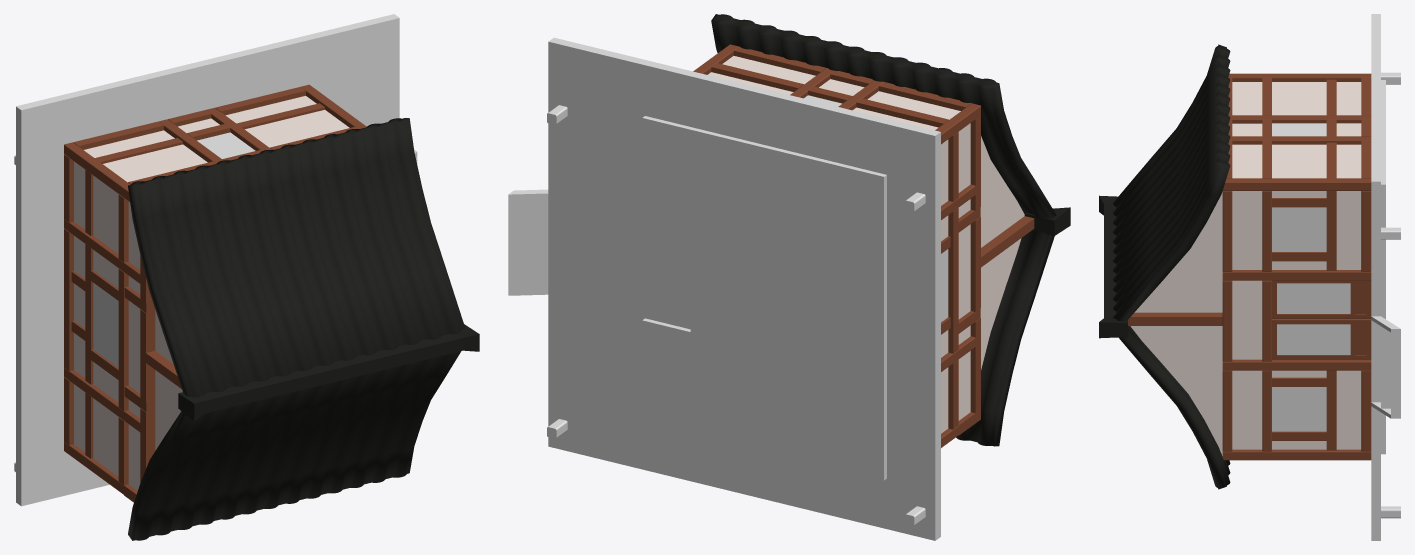
Rendered from House1_LOD0.fbx.
3 views of the same model, side by side, from view 1: azimuth 30°, elevation 25°; view 2: azimuth 150°, elevation 25°; view 3: azimuth 270°, elevation 25° (orthographic). The views are drawn at different scales.
Parts seen in each view (by area): view 1: Cube.331, Cube.285; view 2: Cube.285, Cube.331, Cube.257; view 3: Cube.331, Cube.285, Cube.257.
Part boxes in pixels (left/top/right/bottom): Cube.331: left=64, top=84, right=479, bottom=540; Cube.285: left=16, top=14, right=399, bottom=506; Cube.285: left=548, top=37, right=940, bottom=540; Cube.331: left=693, top=14, right=1070, bottom=447; Cube.257: left=508, top=189, right=548, bottom=295; Cube.331: left=1099, top=44, right=1371, bottom=489; Cube.285: left=1371, top=14, right=1385, bottom=540; Cube.257: left=1371, top=316, right=1400, bottom=418.
Bounding box in the file's own units: 860 × 800 × 609.
